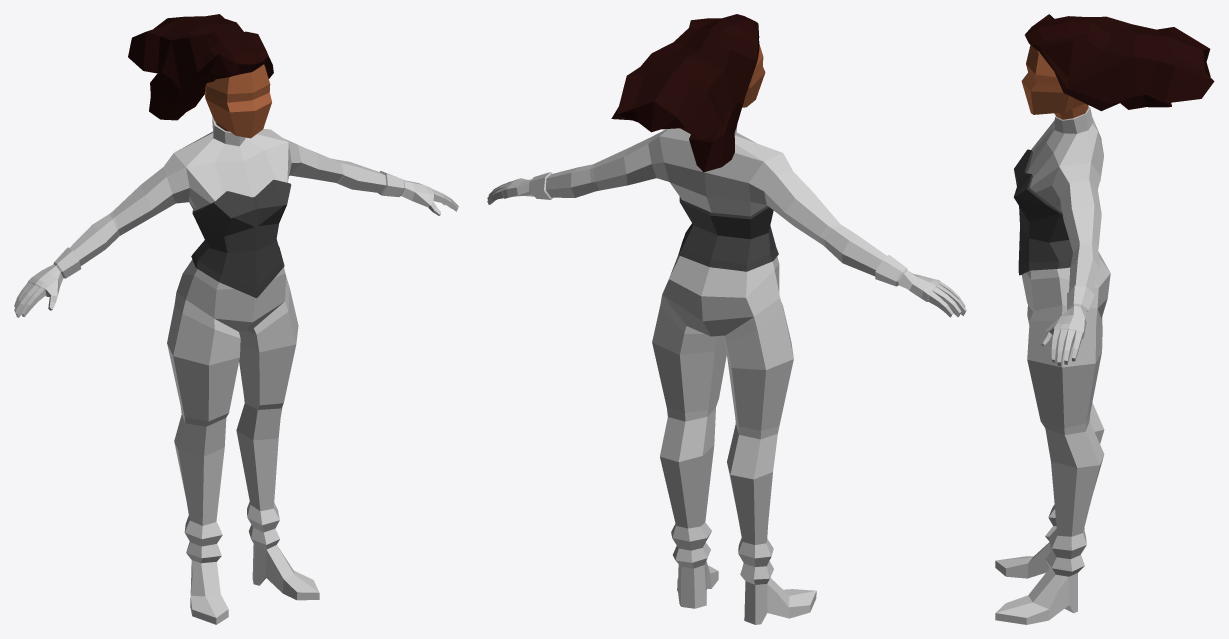
The model's file is Mara V (Personaje) - Facundo Túpac Martínez (rig)- FINAL.obj.
3 views of the same model, side by side, from view 1: azimuth 30°, elevation 25°; view 2: azimuth 150°, elevation 25°; view 3: azimuth 270°, elevation 25° (orthographic). The views are drawn at different scales.
Parts seen in each view (by area): view 1: Mara_Head; view 2: Mara_Head; view 3: Mara_Head.
Part boxes in pixels (x1,y1,x2,y2): Mara_Head: (14, 14, 458, 624); Mara_Head: (487, 14, 966, 624); Mara_Head: (995, 14, 1214, 624).
Size of the model in its own units: 1.51 by 1.79 by 0.6207.
